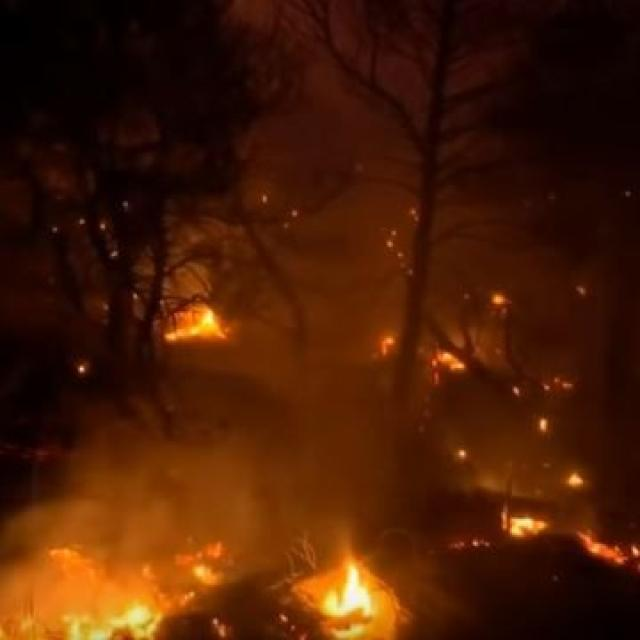Fire: (37, 538, 232, 640), (323, 564, 378, 638), (170, 297, 232, 349), (494, 494, 546, 549), (578, 524, 635, 570), (424, 344, 476, 388), (532, 360, 580, 400), (372, 332, 408, 366), (554, 462, 590, 486), (486, 288, 514, 309), (534, 407, 554, 435)
Smoke: (82, 4, 550, 567)
